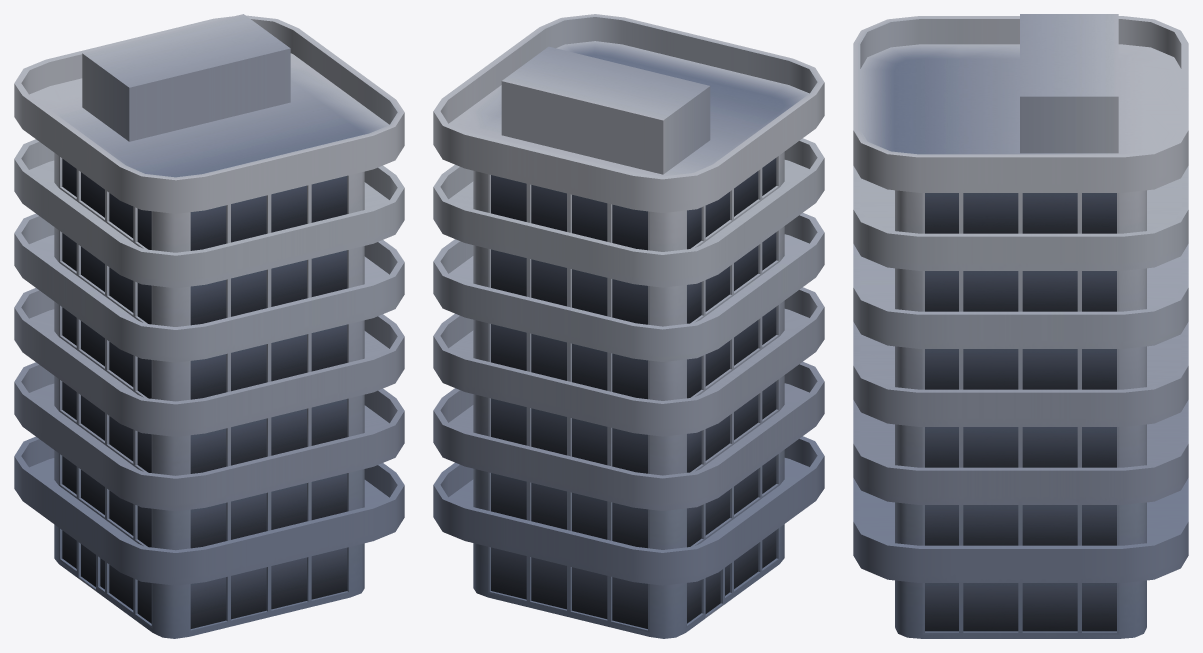
The model's file is miami_building_005.FBX.
The picture shows the model from 3 angles, left to right: view 1: azimuth 30°, elevation 25°; view 2: azimuth 150°, elevation 25°; view 3: azimuth 270°, elevation 25°; orthographic projection. The views are drawn at different scales.
Parts seen in each view (by area): view 1: Box004; view 2: Box004; view 3: Box004.
Part boxes in pixels (x1,y1,x2,y2): Box004: [14, 14, 404, 638]; Box004: [433, 14, 824, 638]; Box004: [853, 14, 1188, 638].
Bounding box in the file's own units: 479 × 839 × 481.
